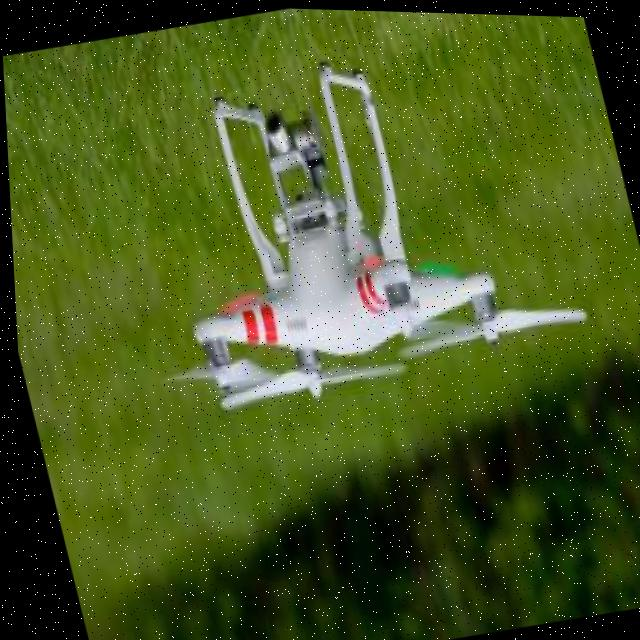drones: (88, 20, 606, 439)
